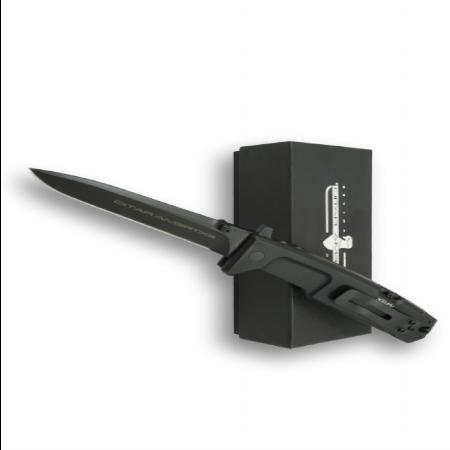long weapon: (24, 160, 285, 282)
